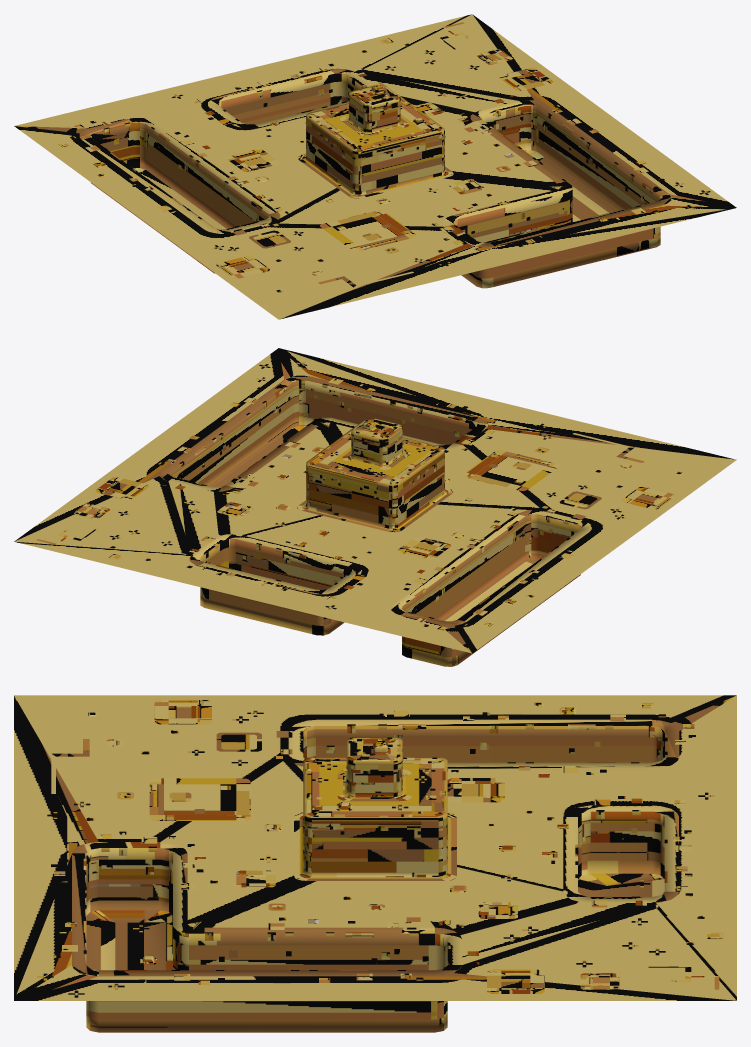
The model's file is C_mountain1_09.fbx.
3 renders of one model, top to bottom at view 1: azimuth 30°, elevation 25°; view 2: azimuth 150°, elevation 25°; view 3: azimuth 270°, elevation 25°, orthographic. The views are drawn at different scales.
Parts seen in each view (by area): view 1: C_mountain1_09.002; view 2: C_mountain1_09.002; view 3: C_mountain1_09.002.
Part boxes in pixels (x1=…): C_mountain1_09.002: x1=14, y1=14, x2=736, y2=319; C_mountain1_09.002: x1=14, y1=348, x2=736, y2=666; C_mountain1_09.002: x1=14, y1=695, x2=736, y2=1032.
Bounding box in the file's own units: 50 × 12.9 × 50.
